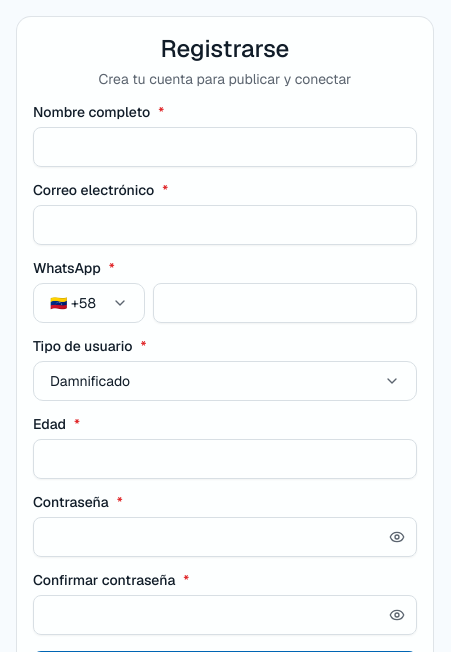
RegisterPage › volunteerType requirement per role › shows the selected volunteer type's translated label, not its raw value
Click the dropdown named "Tipo de usuario": (90, 381) [33,361,417,401]
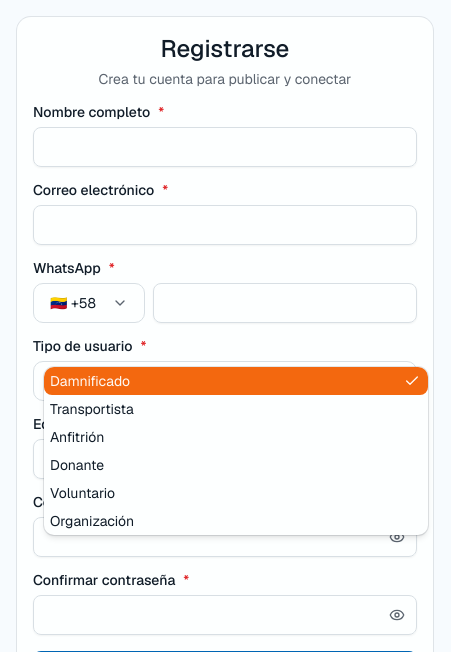
Click the option "Voluntario": (83, 493) [50,484,115,502]
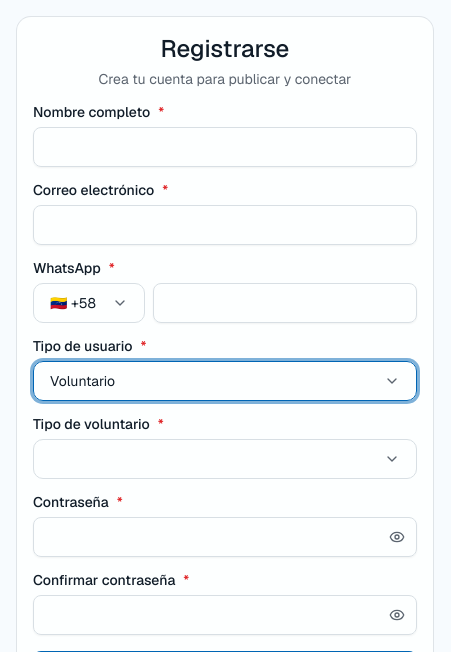
Click the dropdown named "Tipo de voluntario": (392, 459) [33,439,417,479]
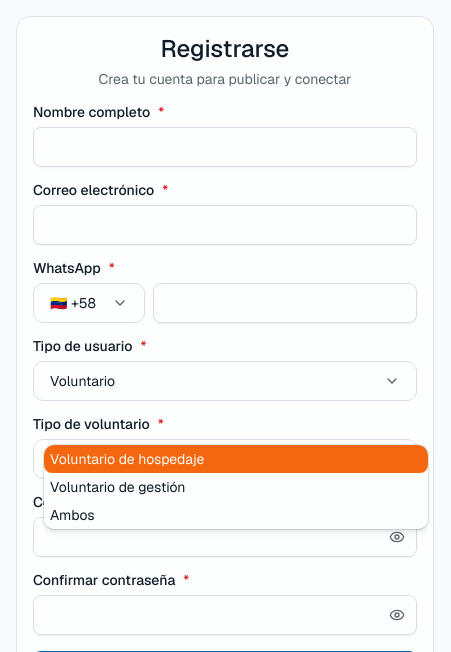
Click the option "Voluntario de gestión": (118, 487) [50,478,186,496]
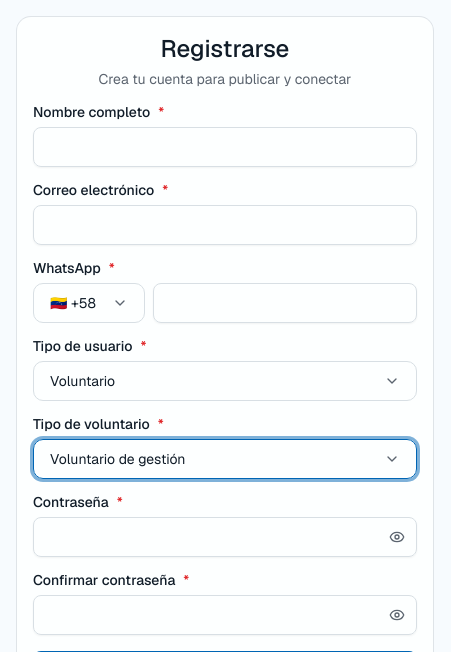
Expected: the dropdown named "Tipo de voluntario" does not show "gestion", [33,439,417,479]
Result: the dropdown named "Tipo de voluntario" shows "Voluntario de gestión" at [33,439,417,479]
